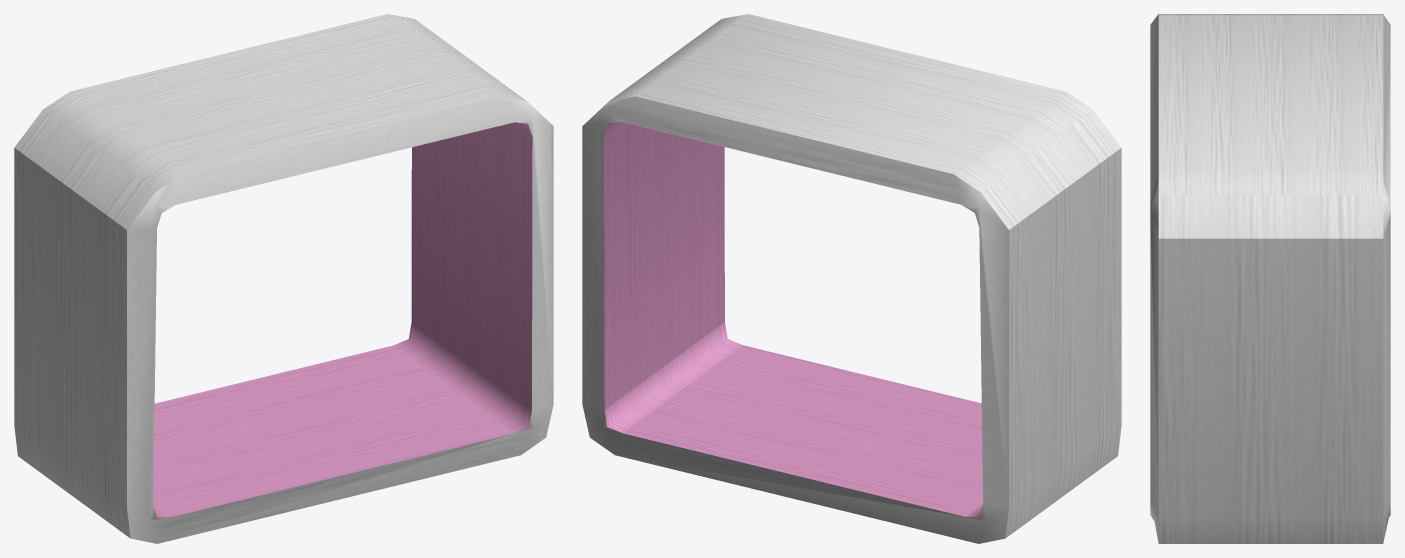
File: Wall_Shelf_02_M.FBX
3 renders of one model, left to right at view 1: azimuth 30°, elevation 25°; view 2: azimuth 150°, elevation 25°; view 3: azimuth 270°, elevation 25°, orthographic.
Parts seen in each view (by area): view 1: Wall_Shelf_02; view 2: Wall_Shelf_02; view 3: Wall_Shelf_02.
Boxes of the visible parts, <box> form: Wall_Shelf_02: <box>14,14,553,543</box>; Wall_Shelf_02: <box>582,14,1121,543</box>; Wall_Shelf_02: <box>1150,14,1390,543</box>.
Bounding box in the file's own units: 120 × 98.08 × 58.85.
